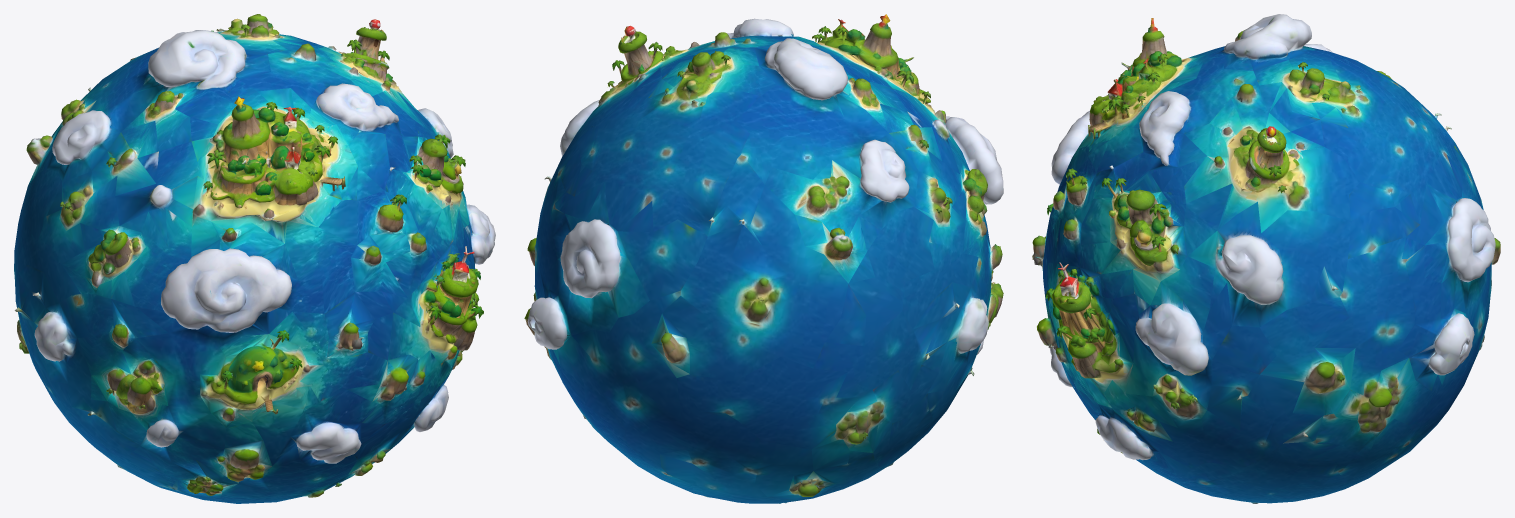
File: planet-ocean.glb
3 views of the same model, side by side, from view 1: azimuth 30°, elevation 25°; view 2: azimuth 150°, elevation 25°; view 3: azimuth 270°, elevation 25° (orthographic). The views are drawn at different scales.
Parts seen in each view (by area): view 1: Mesh_0; view 2: Mesh_0; view 3: Mesh_0.
Boxes of the visible parts, box(x1,y1,x2,y2) form: Mesh_0: box(14, 14, 495, 503); Mesh_0: box(524, 14, 1003, 503); Mesh_0: box(1032, 14, 1500, 503).
Bounding box in the file's own units: 0.9744 × 1 × 0.954.
1 material, 1 textured.
